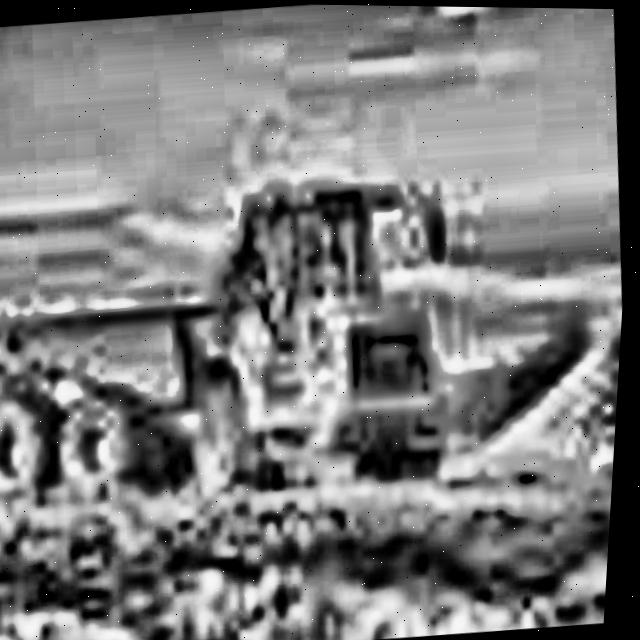dump_truck: (0, 144, 488, 557)
